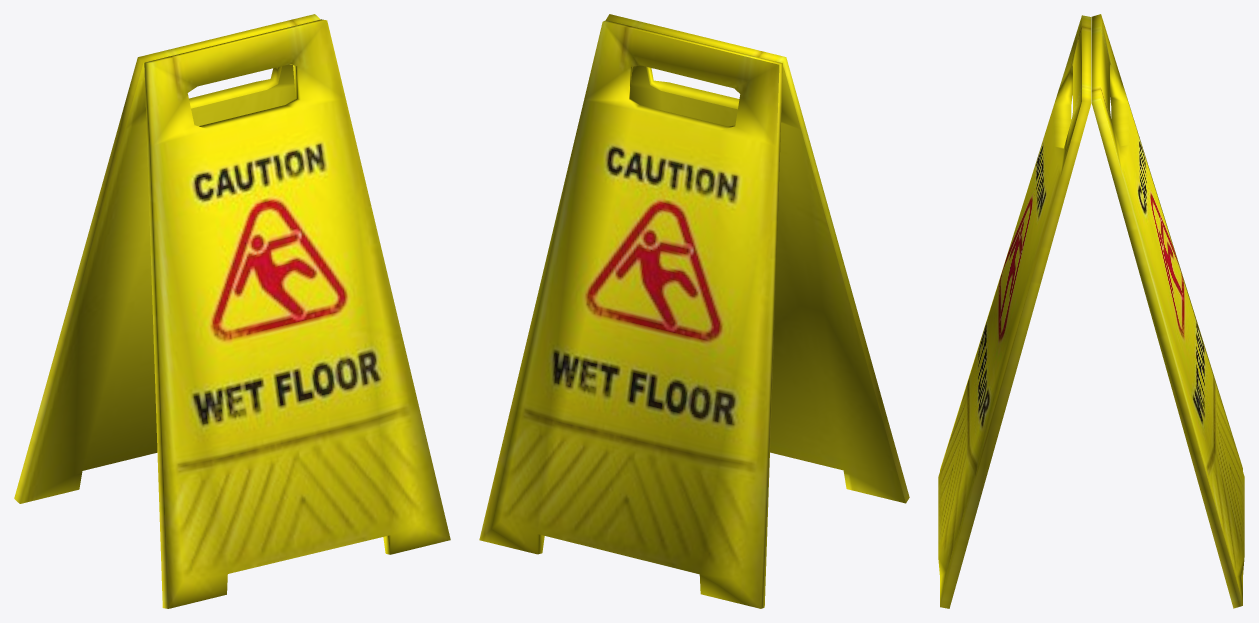
Rendered from wetFloorSign.glb.
The picture shows the model from 3 angles, left to right: view 1: azimuth 30°, elevation 25°; view 2: azimuth 150°, elevation 25°; view 3: azimuth 270°, elevation 25°; orthographic projection.
Parts seen in each view (by area): view 1: Object_6; view 2: Object_6; view 3: Object_6.
Boxes of the visible parts, x1,y1,x2,y2 form: Object_6: [14, 14, 450, 608]; Object_6: [479, 14, 909, 608]; Object_6: [938, 14, 1244, 608].
Bounding box in the file's own units: 30.41 × 49.22 × 28.36.
1 material, 1 textured.
